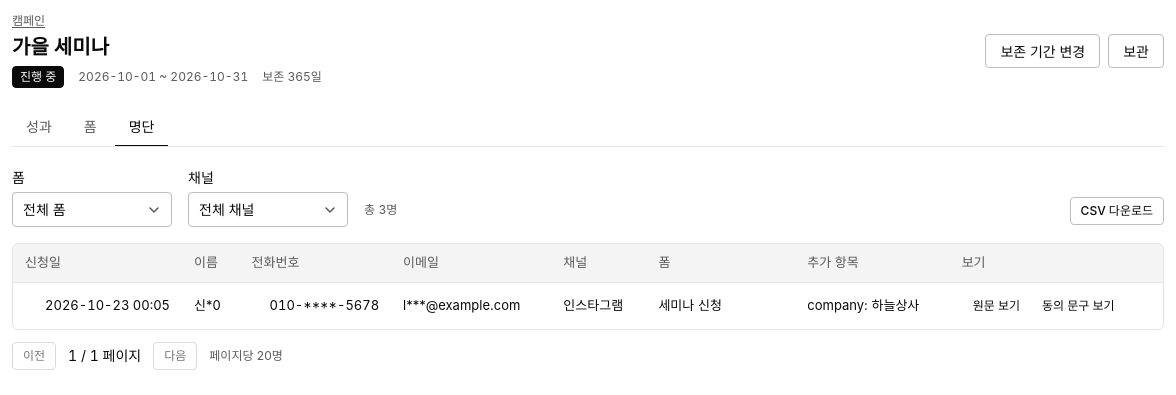
Scenario: 명단 CSV 다운로드 › 마스킹 다운로드가 실패하면 오류를 보여준다
Expected: the text "신*0" is shown, [182,282,240,328]
Click the button "CSV 다운로드" at (1117, 211), box [1070,197,1164,225]
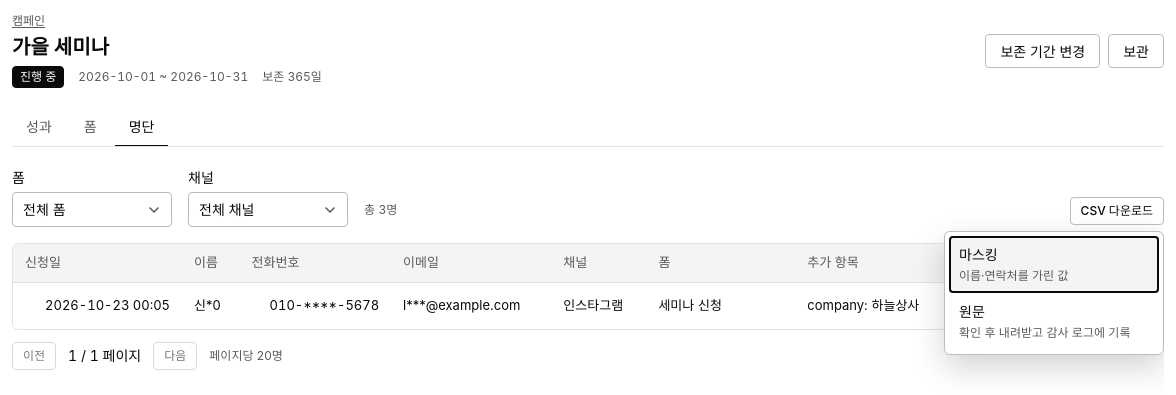
Click the menu item "마스킹 이름·연락처를 가린 값" at (1054, 264), box [949,236,1159,293]
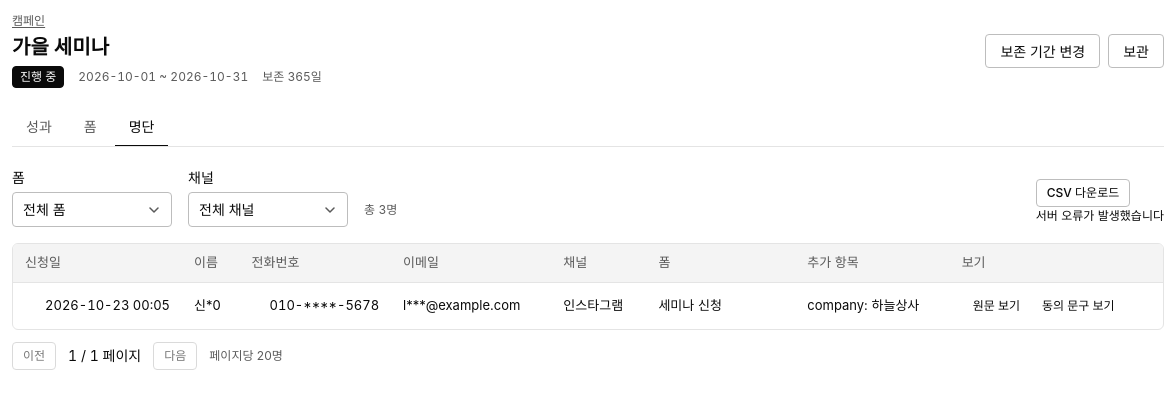
Now the text "서버 오류가 발생했습니다" is shown, box [1036,207,1164,225]
